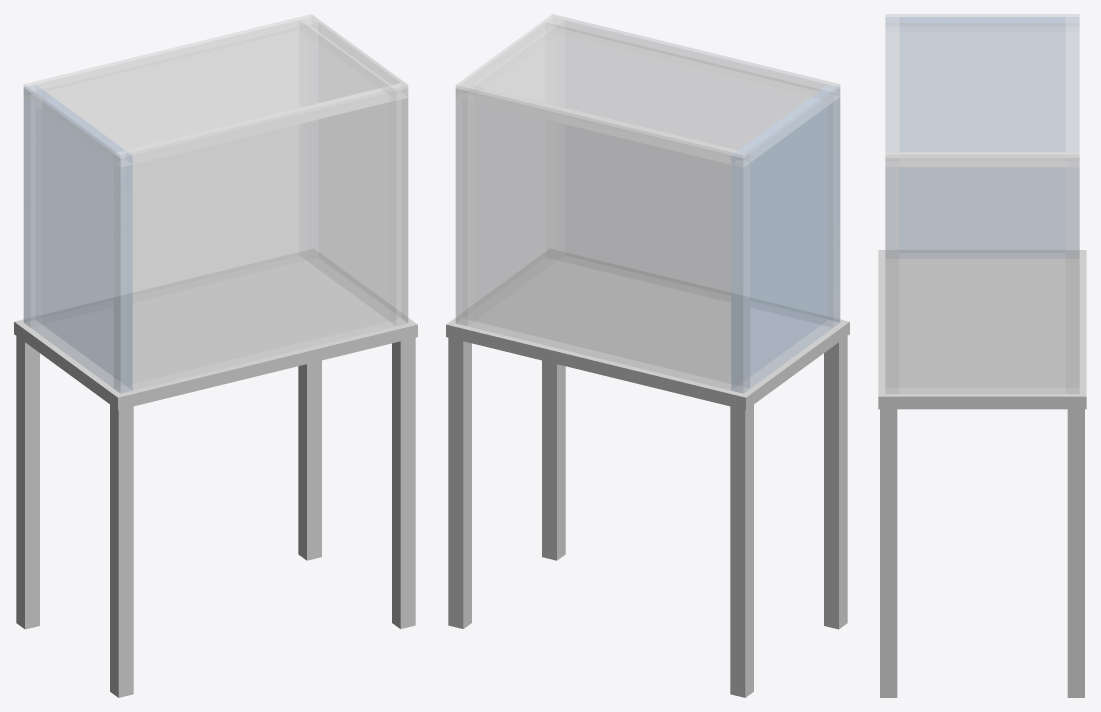
File: Gablota_nowa_a.fbx
The picture shows the model from 3 angles, left to right: view 1: azimuth 30°, elevation 25°; view 2: azimuth 150°, elevation 25°; view 3: azimuth 270°, elevation 25°; orthographic projection.
Visible parts, largest first — view 1: Blat.001, Cube.004; view 2: Blat.001, Cube.004; view 3: Blat.001, Cube.004.
Part boxes in pixels (<box>): Blat.001: <box>23,14,408,393</box>; Cube.004: <box>14,249,417,697</box>; Blat.001: <box>455,14,840,393</box>; Cube.004: <box>446,249,849,697</box>; Blat.001: <box>885,14,1079,393</box>; Cube.004: <box>878,250,1086,697</box>.
Size of the model in its own units: 100 by 172 by 60.
